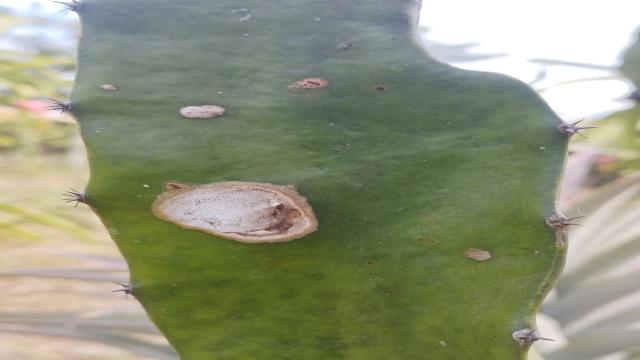stemcanker: (177, 102, 227, 119), (290, 74, 331, 91), (464, 247, 494, 264), (99, 80, 117, 93)
